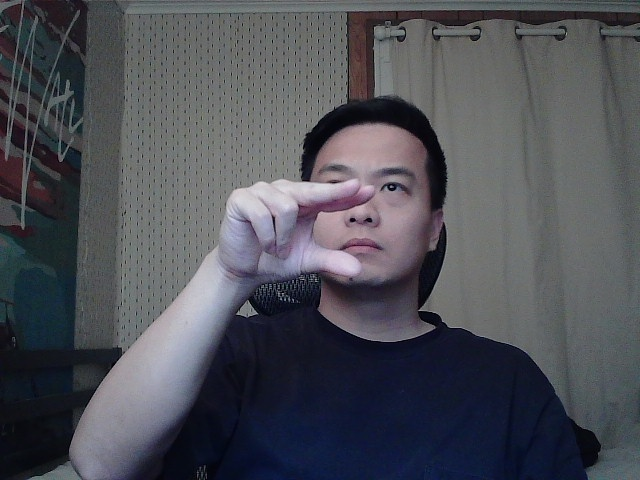No: (211, 167, 384, 309)
